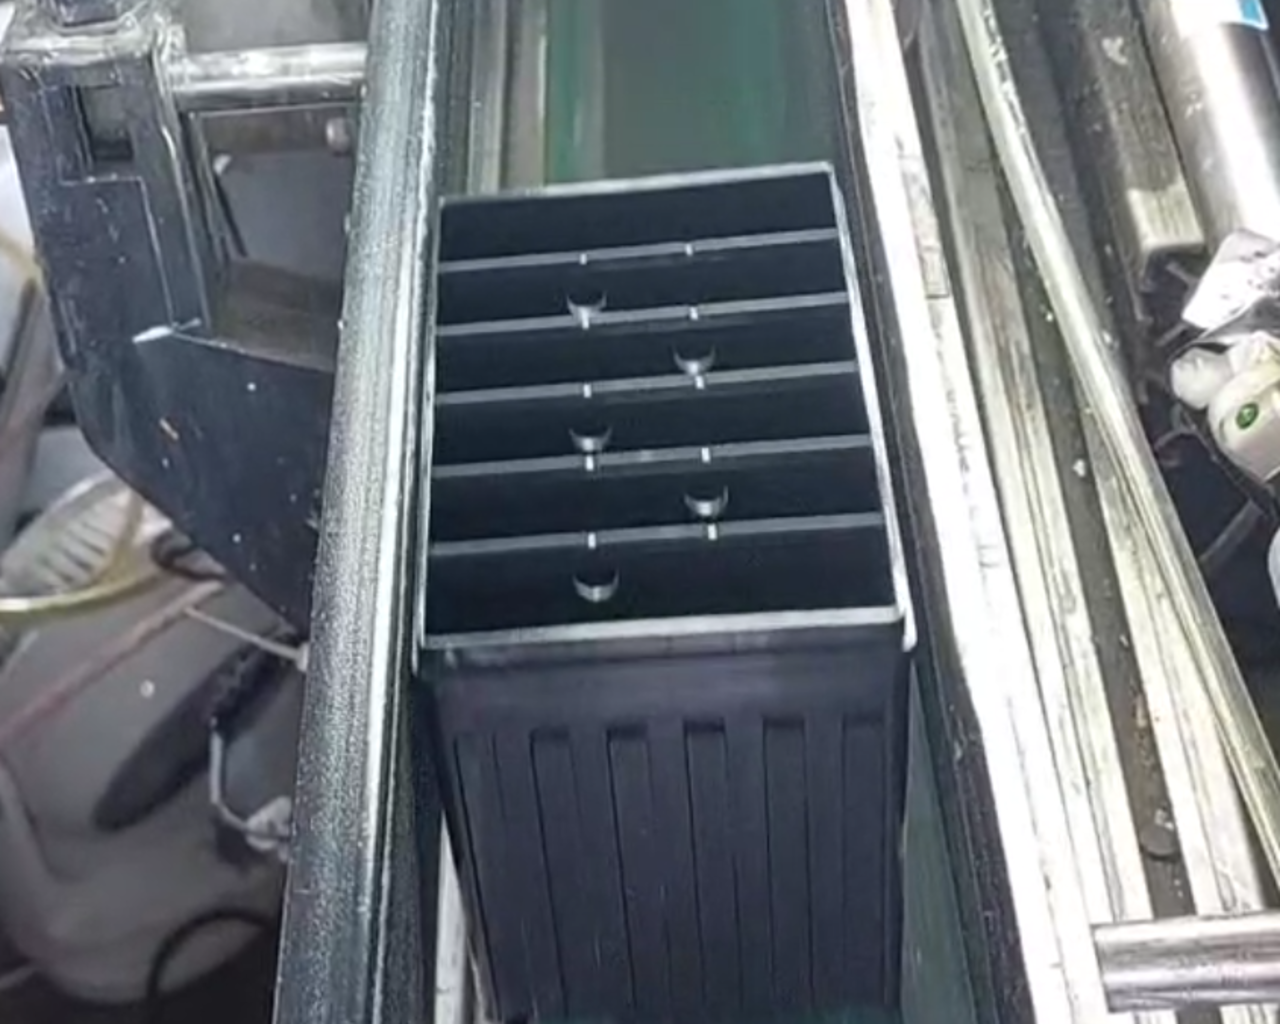box: (396, 152, 929, 686)
round: (561, 554, 630, 609), (666, 325, 727, 379), (675, 471, 737, 523), (559, 403, 620, 456), (557, 275, 615, 320)
